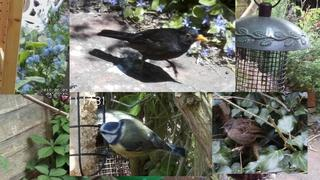blackbird: (96, 27, 209, 82)
blue tit: (96, 119, 186, 158)
dunnock: (219, 119, 281, 153)
